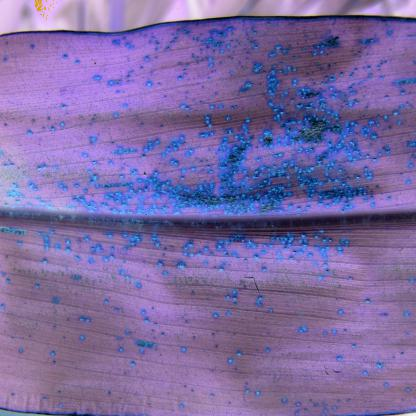Corn rust leaf: (0, 0, 416, 413)
